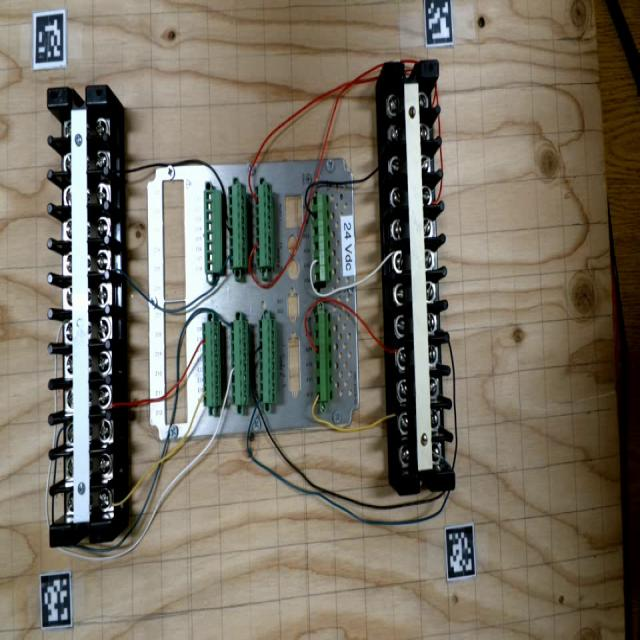Flathead_Block: (384, 60, 454, 495)
Phillips_Block: (47, 85, 112, 547)
Terminal_1: (311, 194, 332, 282), (314, 313, 333, 402)
Terminal_2: (230, 320, 250, 405), (228, 183, 247, 269), (202, 321, 221, 406), (259, 318, 277, 403), (255, 182, 273, 267)
